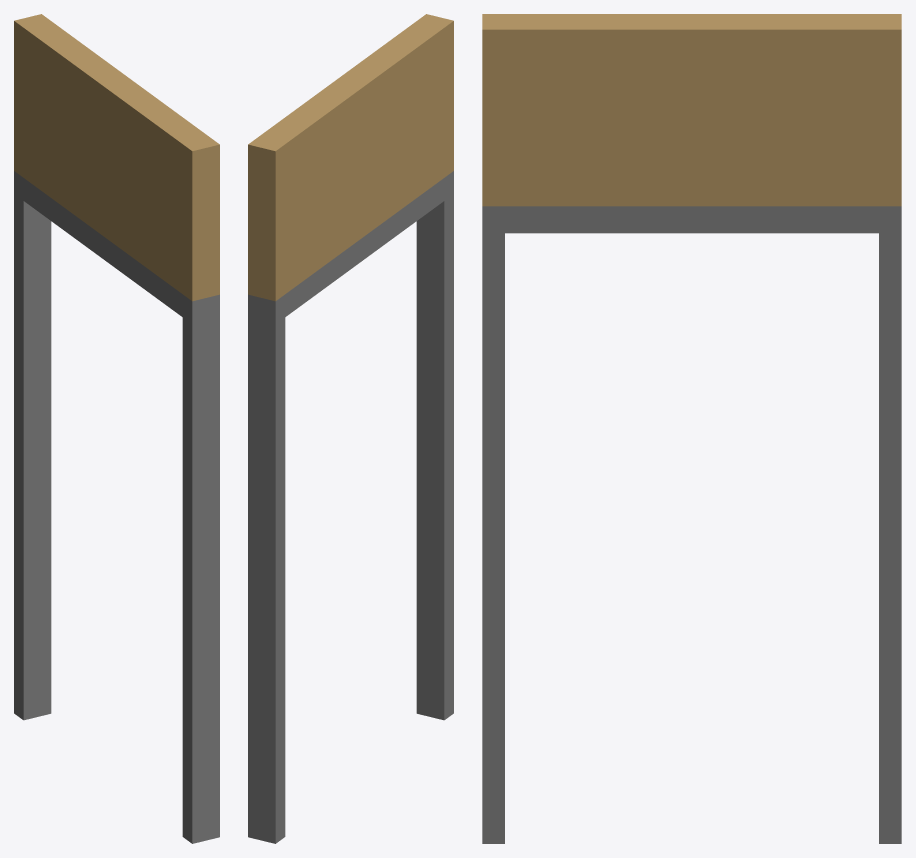
The model's file is SchoolPack-0-door frames.obj.
3 views of the same model, side by side, from view 1: azimuth 30°, elevation 25°; view 2: azimuth 150°, elevation 25°; view 3: azimuth 270°, elevation 25° (orthographic). The views are drawn at different scales.
Visible parts, largest first — view 1: door frames; view 2: door frames; view 3: door frames.
Boxes of the visible parts, box(x1,y1,x2,y2) form: door frames: box(14, 14, 219, 843); door frames: box(248, 14, 453, 843); door frames: box(482, 14, 901, 843).
Bounding box in the file's own units: 0.5 × 12 × 5.6.
Materials: 1 (1 with a texture image).
